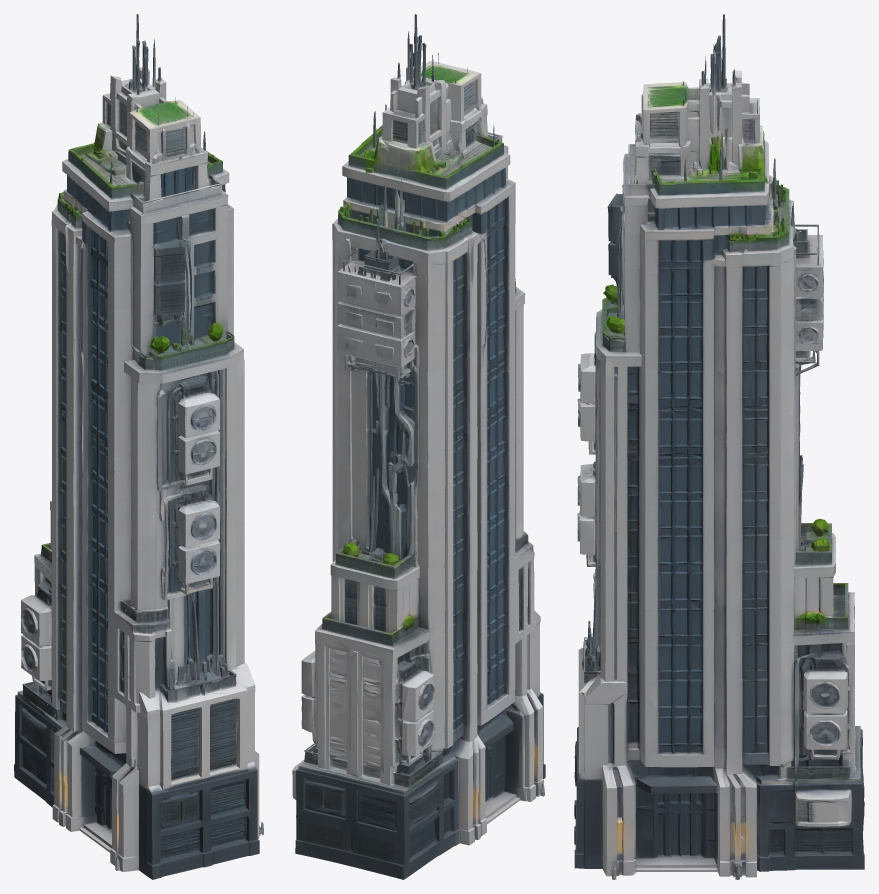
The model's file is scene-detail.glb.
3 renders of one model, left to right at view 1: azimuth 30°, elevation 25°; view 2: azimuth 150°, elevation 25°; view 3: azimuth 270°, elevation 25°, orthographic. The views are drawn at different scales.
Visible parts, largest first — view 1: model; view 2: model; view 3: model.
Boxes of the visible parts, x1=… form: model: x1=14, y1=14, x2=263, y2=879; model: x1=292, y1=14, x2=545, y2=879; model: x1=574, y1=14, x2=864, y2=879.
Size of the model in its own units: 0.3683 by 1.89 by 0.6011.
1 material, 1 textured.
